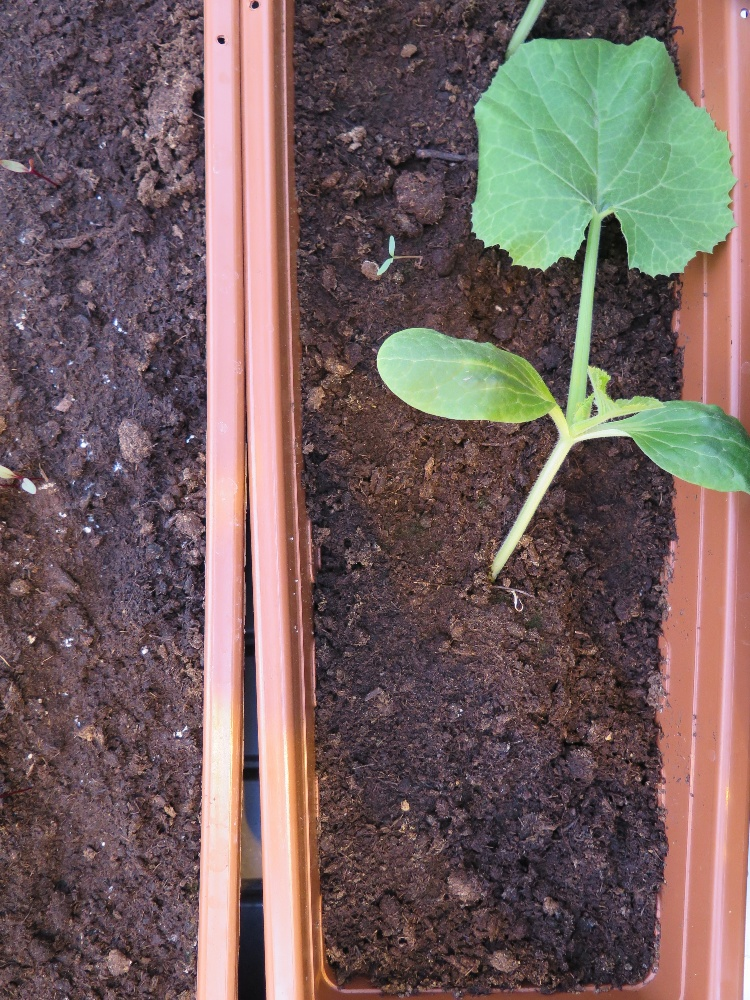crop: (372, 37, 750, 598)
weed: (376, 232, 395, 277)
